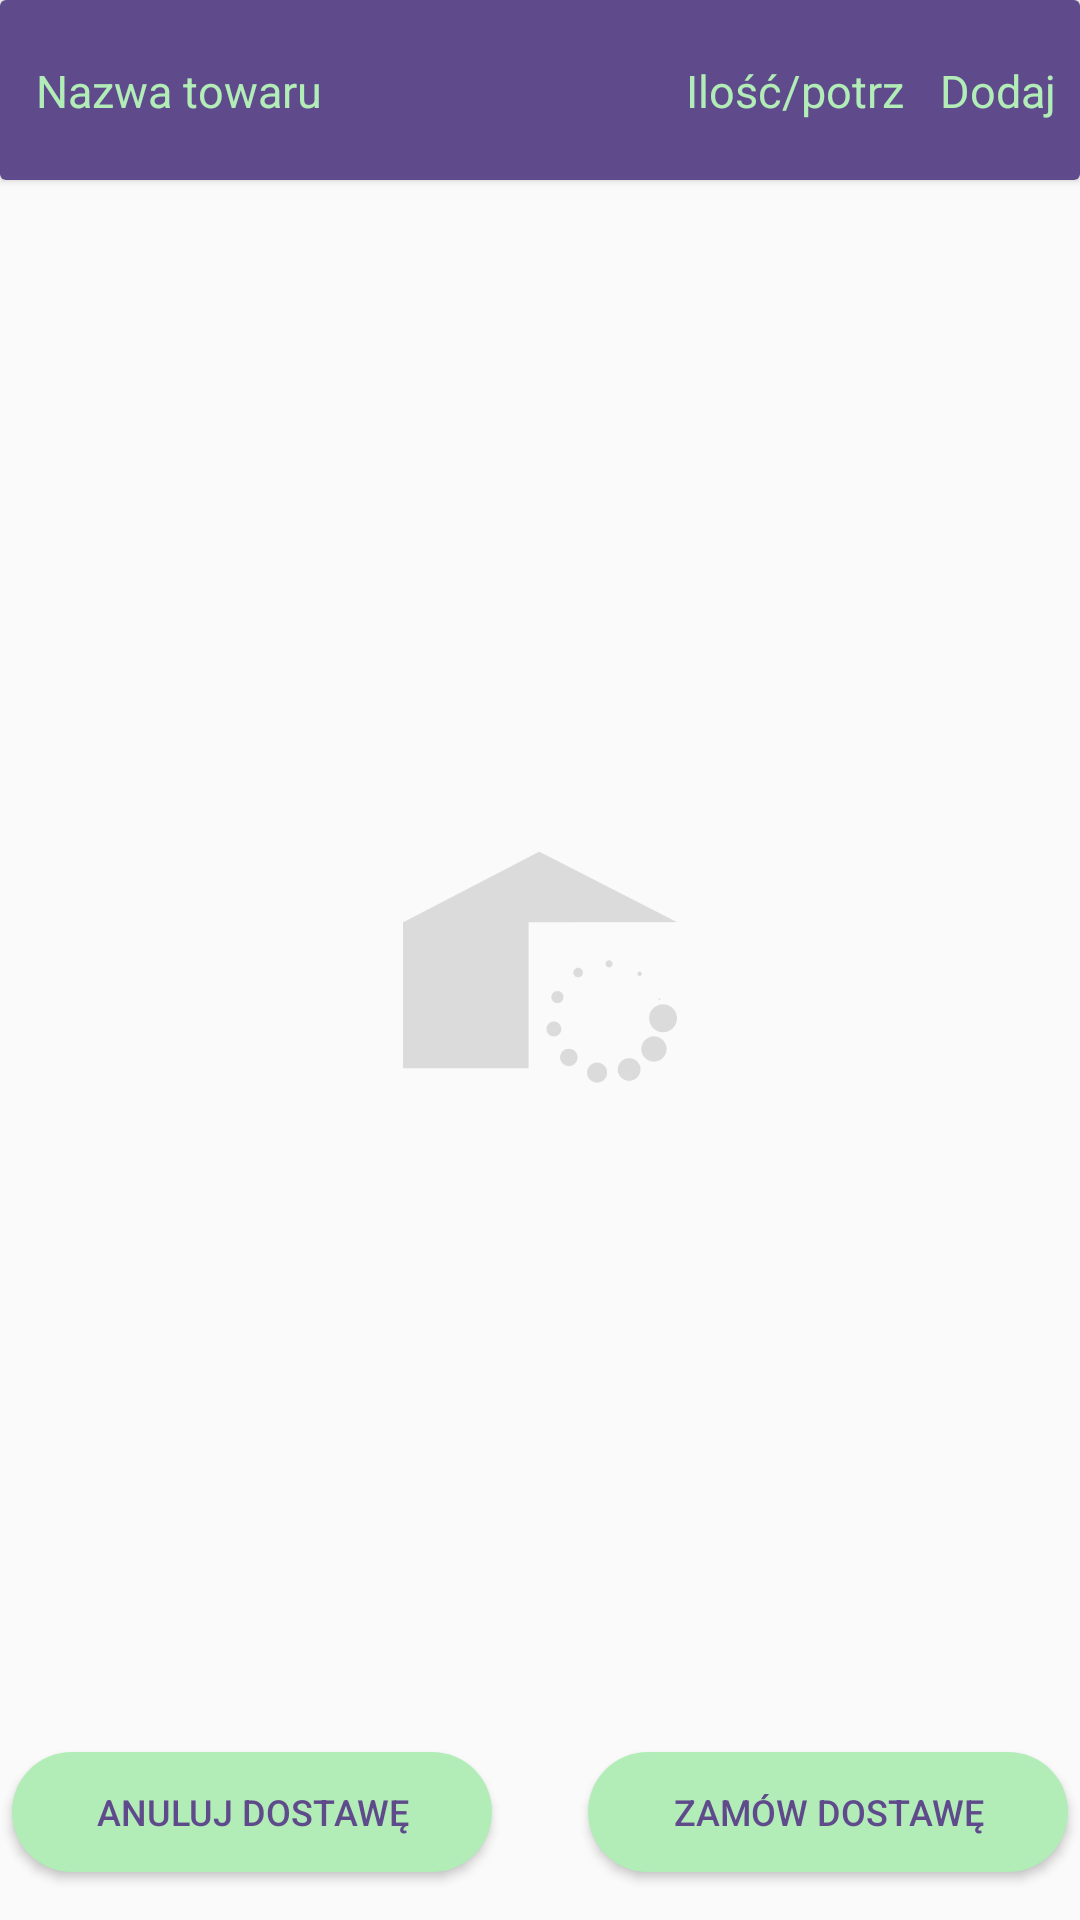

Icons on this 1080px x 1920px Android screen, each with its box as (x1, y1, x2, y2):
Wait: (403, 852, 677, 1082)
